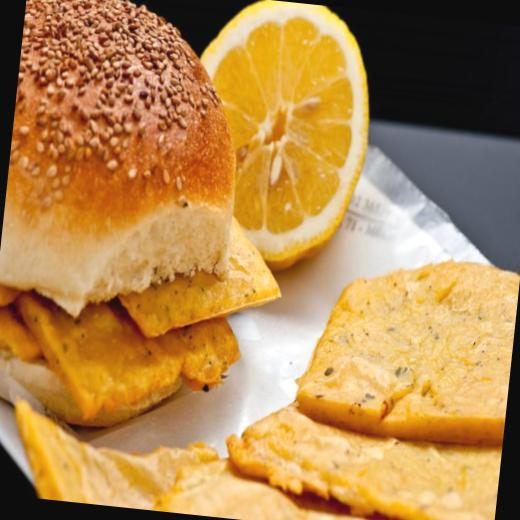Grape: (177, 0, 378, 284)
